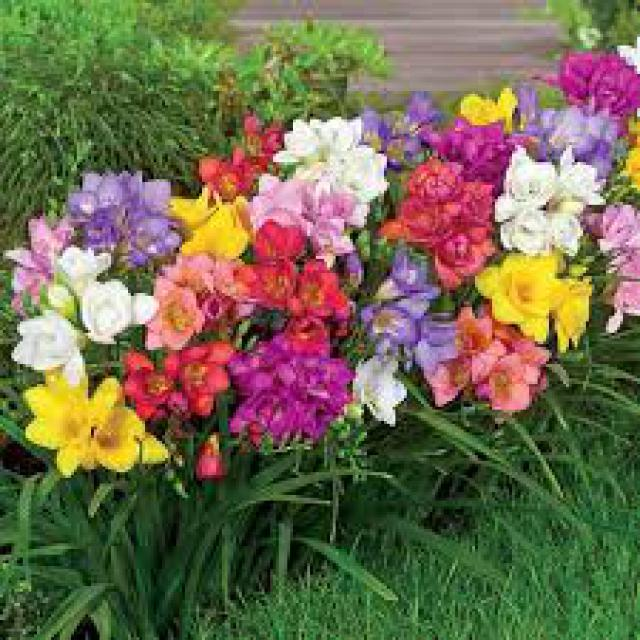freesia: (32, 358, 172, 484), (468, 240, 610, 349), (238, 220, 365, 332), (231, 333, 355, 443), (370, 259, 465, 382), (75, 174, 183, 271), (120, 336, 237, 421), (545, 27, 637, 125), (12, 198, 76, 295), (9, 301, 87, 378), (72, 281, 157, 346), (456, 73, 524, 139), (276, 98, 336, 168), (508, 210, 598, 256), (496, 152, 558, 218), (404, 152, 468, 204), (566, 156, 612, 212)
